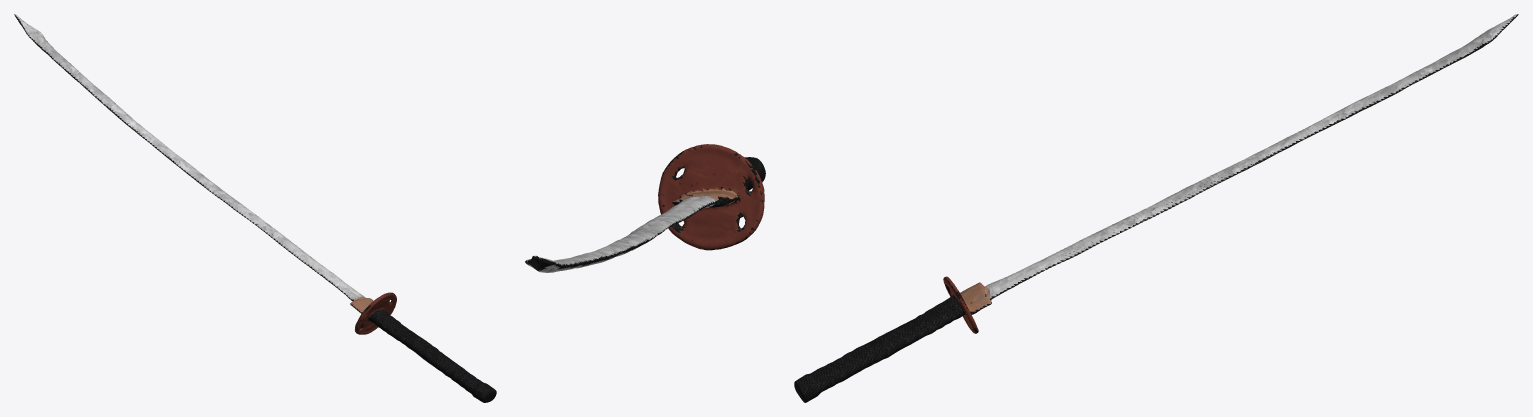
The model's file is Samurai_Sword.glb.
3 views of the same model, side by side, from view 1: azimuth 30°, elevation 25°; view 2: azimuth 150°, elevation 25°; view 3: azimuth 270°, elevation 25° (orthographic). The views are drawn at different scales.
Visible parts, largest first — view 1: Samurai Sword; view 2: Samurai Sword; view 3: Samurai Sword.
Part boxes in pixels (x1,y1,x2,y2): Samurai Sword: [14, 14, 496, 402]; Samurai Sword: [525, 144, 765, 272]; Samurai Sword: [794, 14, 1518, 402].
Size of the model in its own units: 0.7665 by 0.8396 by 2.
4 materials, 4 textured.
